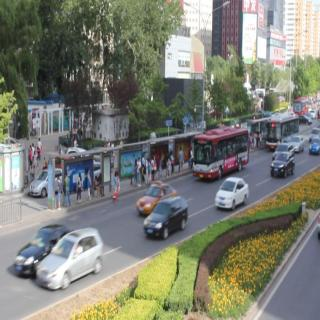BigCar: (188, 130, 254, 176), (263, 116, 301, 152), (290, 98, 310, 119)
Car: (35, 227, 107, 290), (18, 219, 74, 278), (145, 194, 192, 245), (212, 171, 251, 214), (134, 176, 178, 212), (29, 170, 63, 202), (267, 144, 298, 177), (288, 131, 305, 153)
